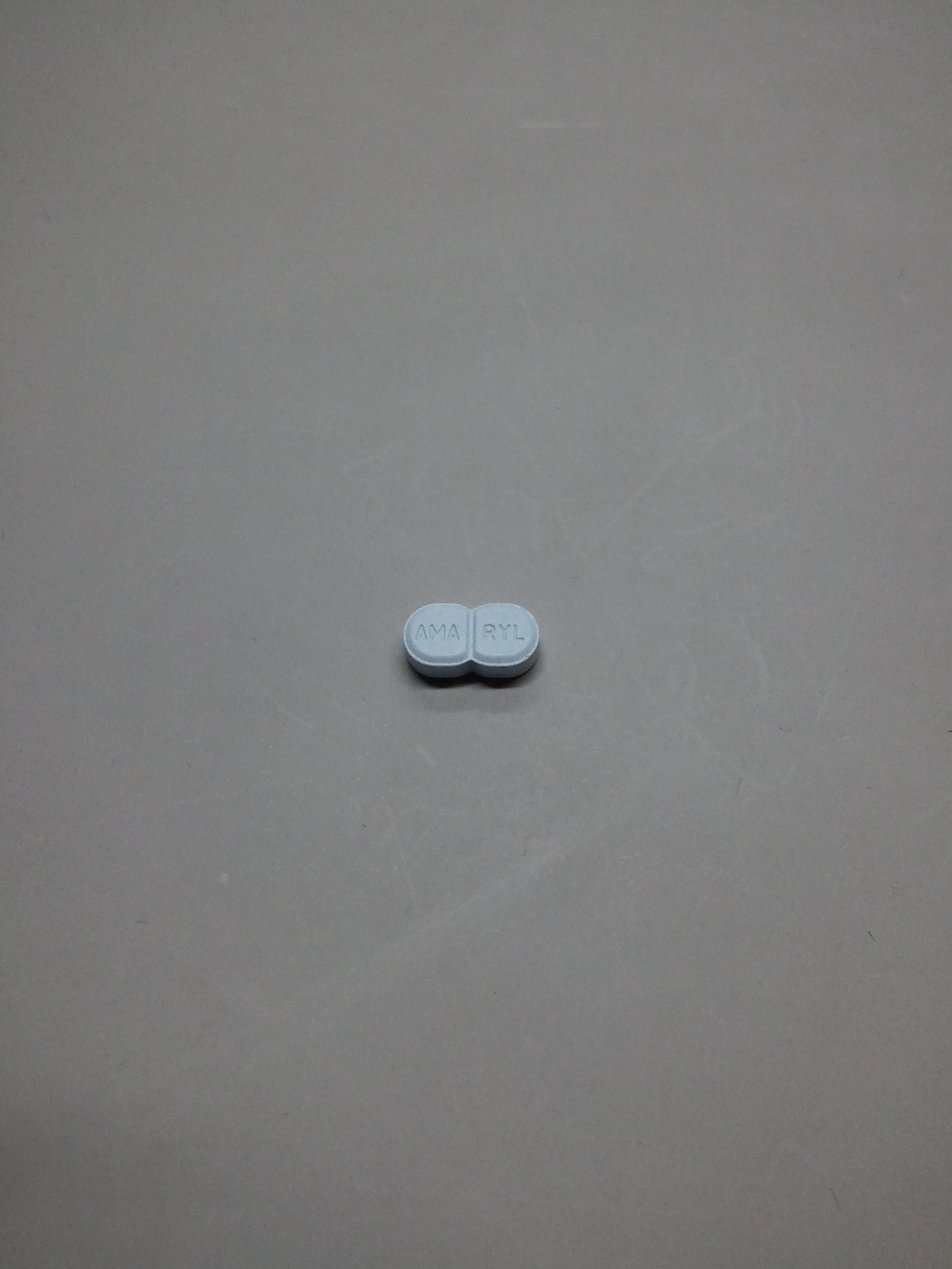Pill: (384, 595, 552, 688)
